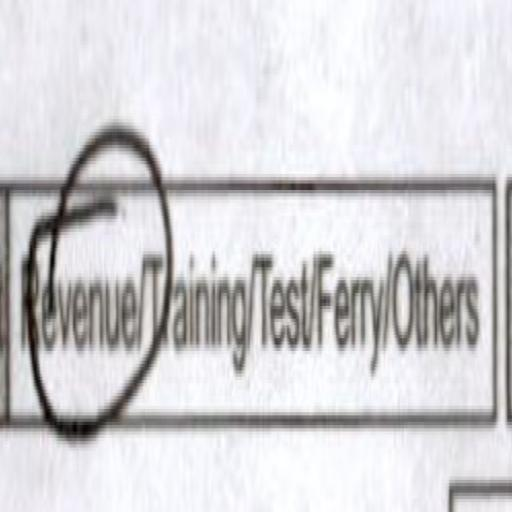check: (16, 120, 146, 466)
